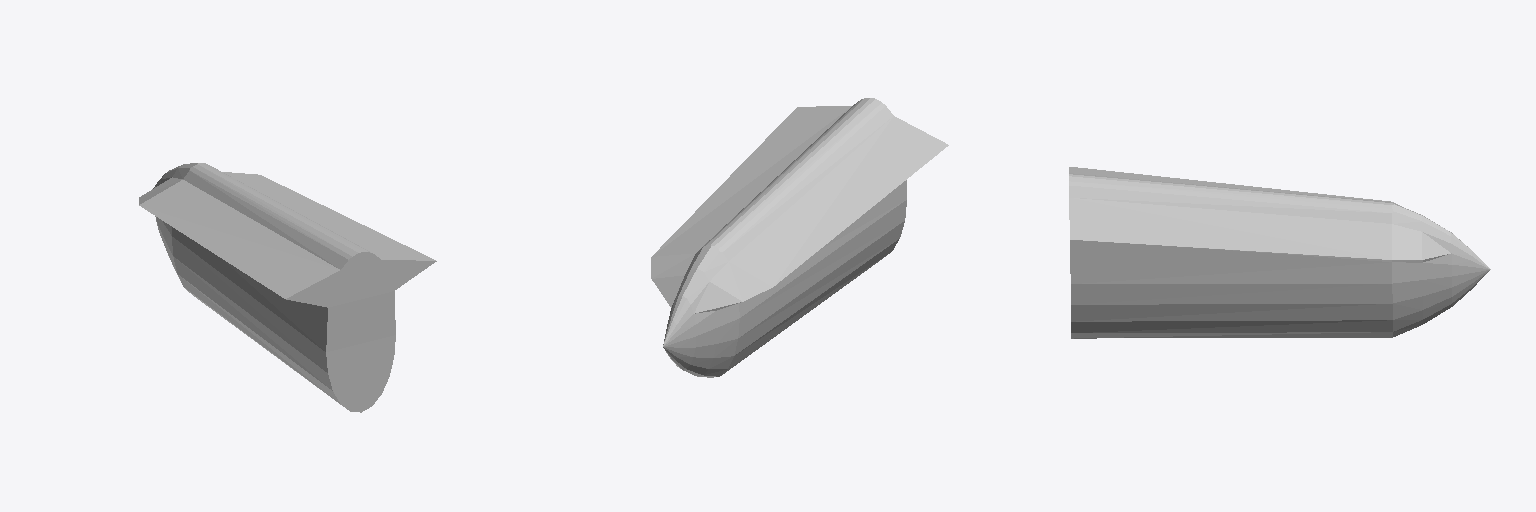
The model's file is Mothership_upperbody.obj.
3 renders of one model, left to right at view 1: azimuth 30°, elevation 25°; view 2: azimuth 150°, elevation 25°; view 3: azimuth 270°, elevation 25°, orthographic.
Parts seen in each view (by area): view 1: initialShadingGroup polySurface20 spaceship2 polySurface30 polyS; view 2: initialShadingGroup polySurface20 spaceship2 polySurface30 polyS; view 3: initialShadingGroup polySurface20 spaceship2 polySurface30 polyS.
Part boxes in pixels (bbox=[...]): initialShadingGroup polySurface20 spaceship2 polySurface30 polyS: bbox=[139, 163, 436, 412]; initialShadingGroup polySurface20 spaceship2 polySurface30 polyS: bbox=[651, 98, 948, 377]; initialShadingGroup polySurface20 spaceship2 polySurface30 polyS: bbox=[1069, 167, 1490, 338].
Size of the model in its own units: 3.04 by 3.08 by 7.29.